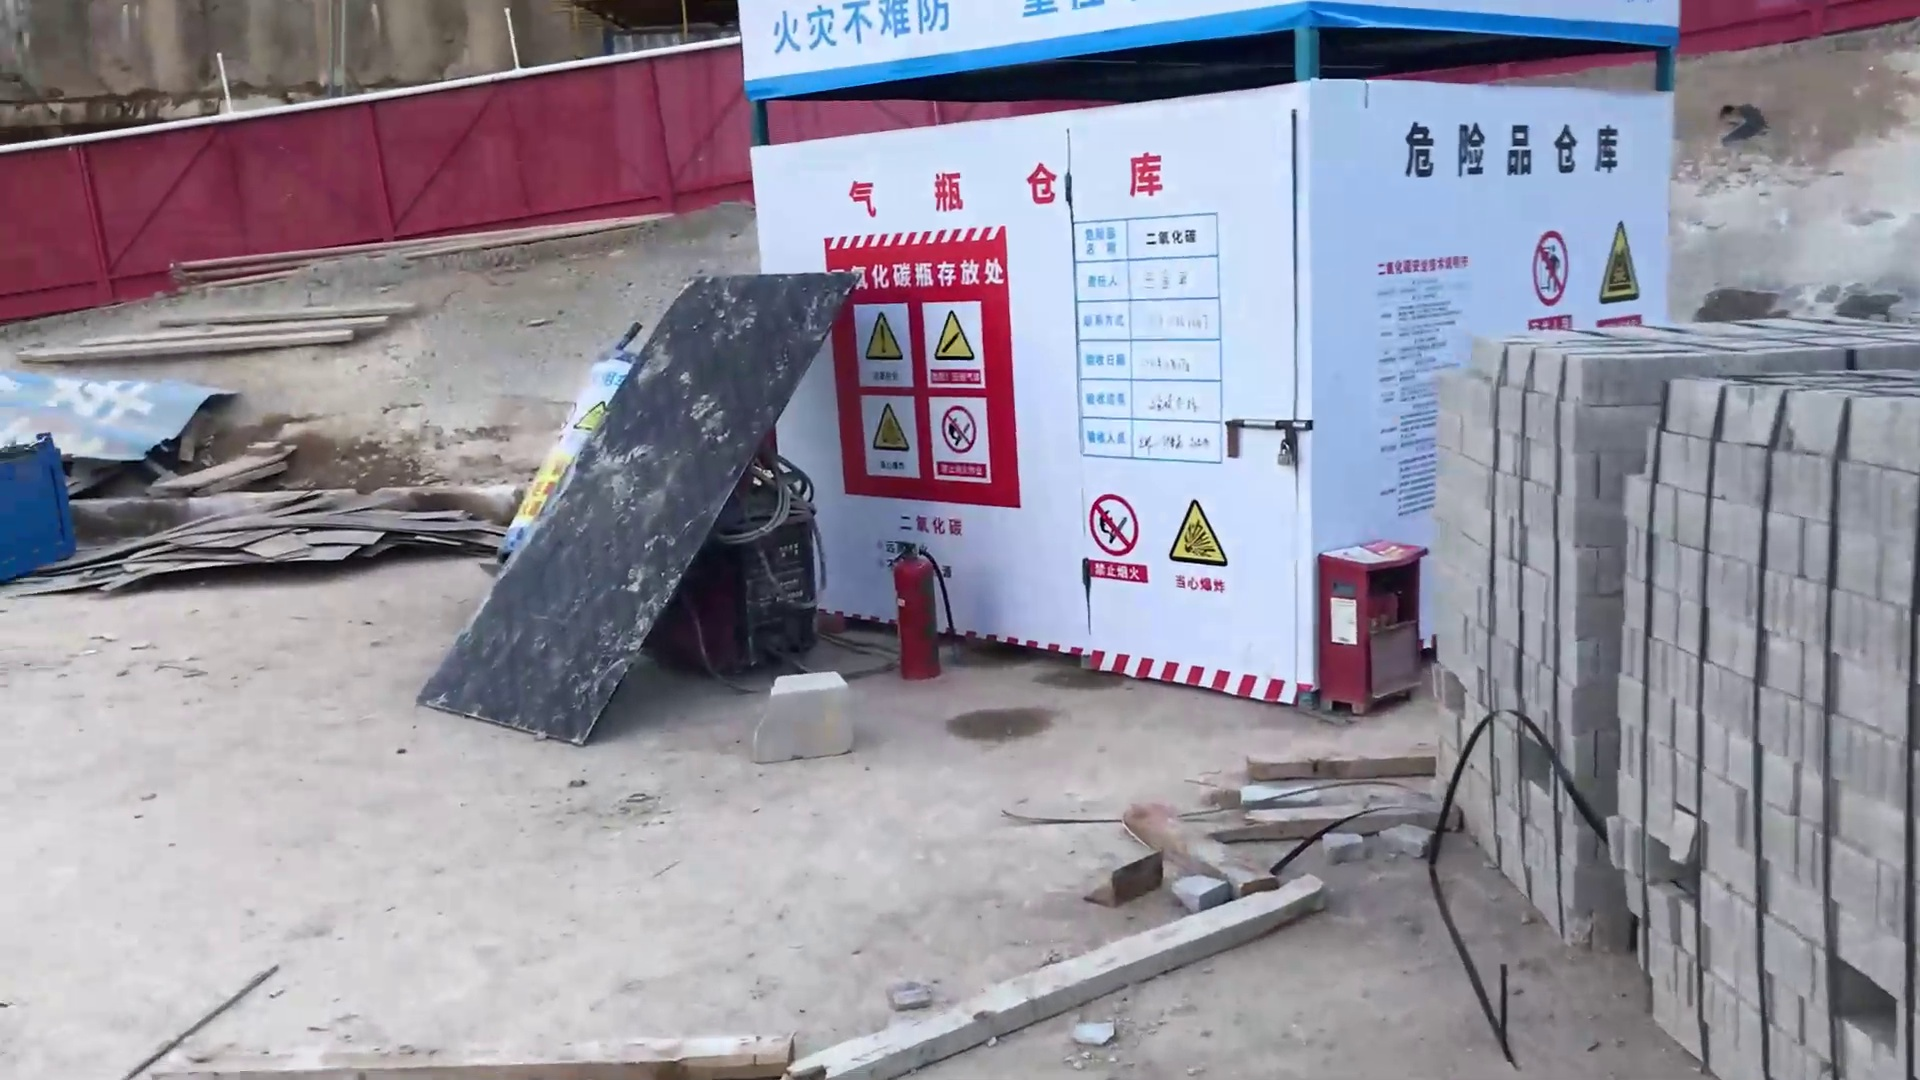board: (440, 258, 804, 771)
brick: (1422, 290, 1913, 1080)
fence: (8, 34, 674, 291)
hopper: (1, 440, 88, 582)
slogan: (837, 251, 1011, 489), (767, 1, 997, 108), (1069, 479, 1232, 613), (1520, 229, 1654, 335)
